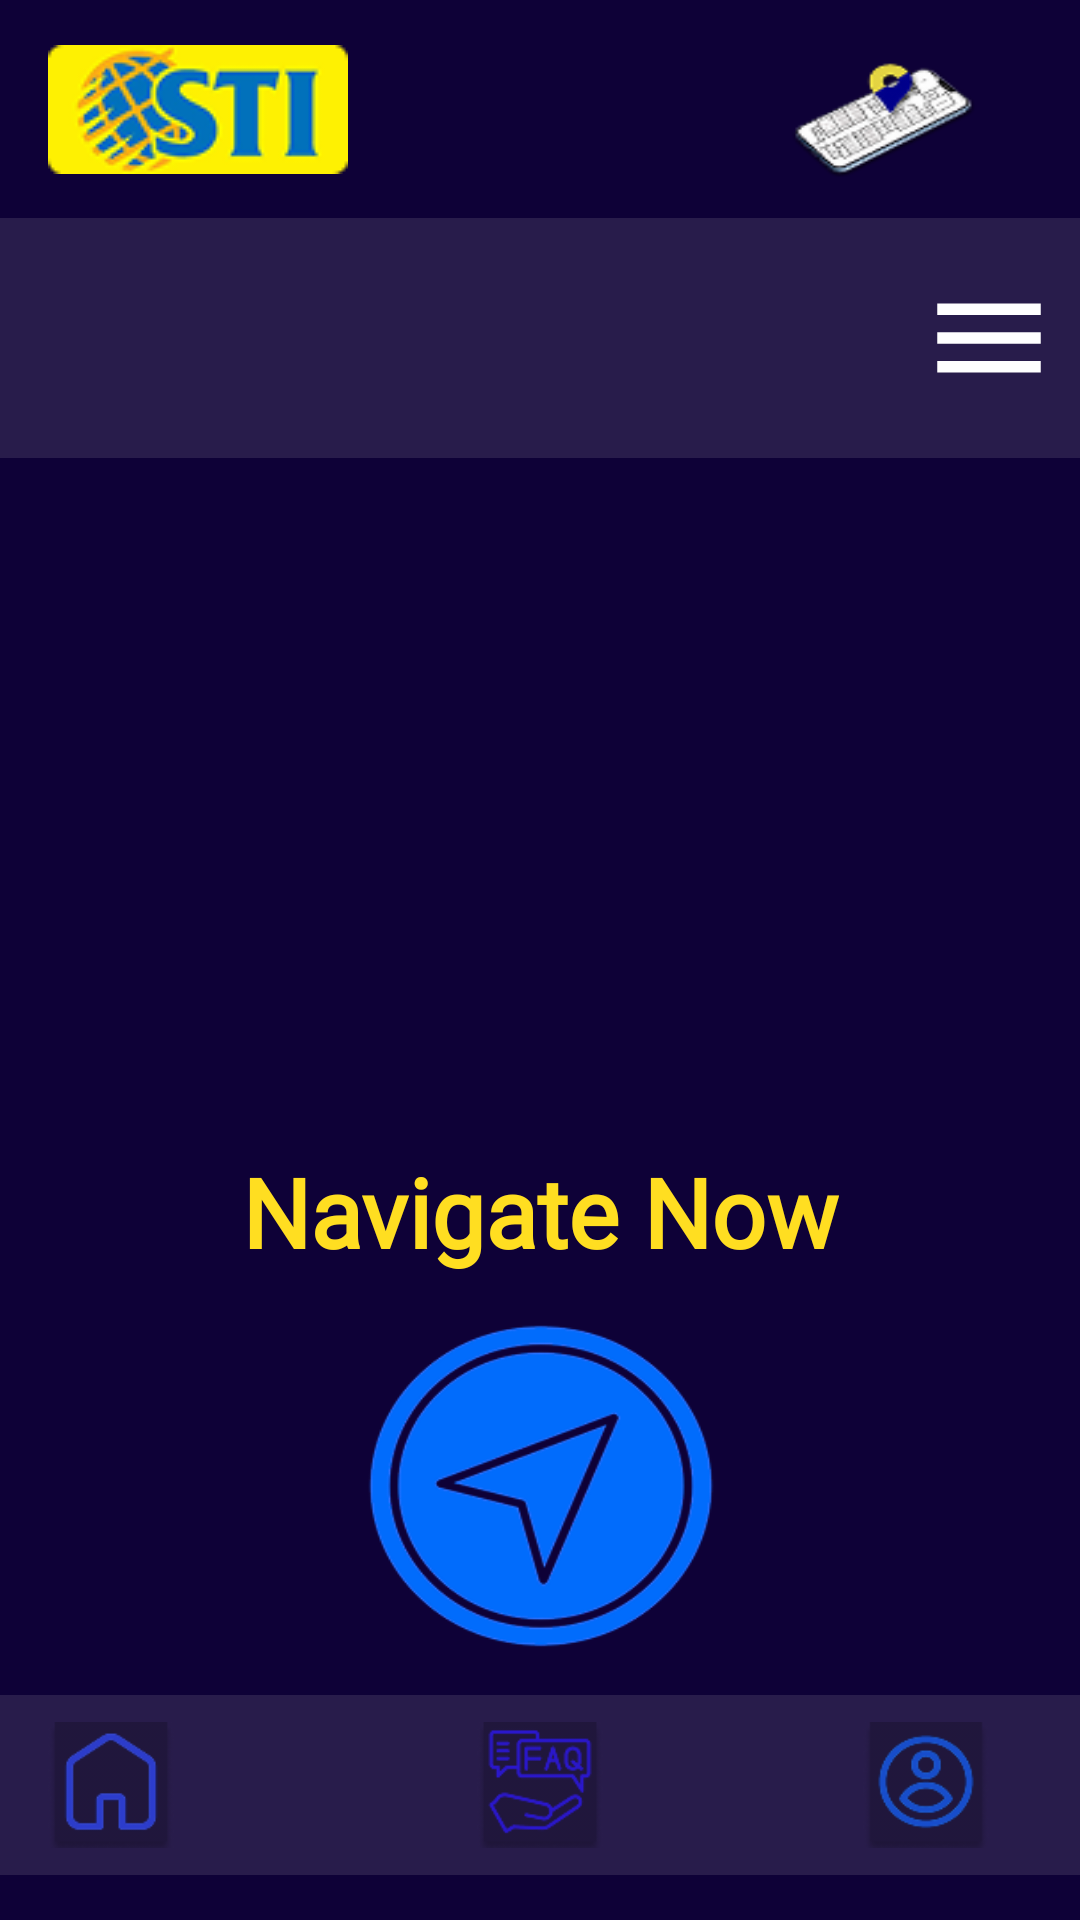

Screen size 1080 x 1920. Icon name, then its center in pixels as (x,y):
home: (111,1785)
menu: (989,338)
profile: (926,1785)
